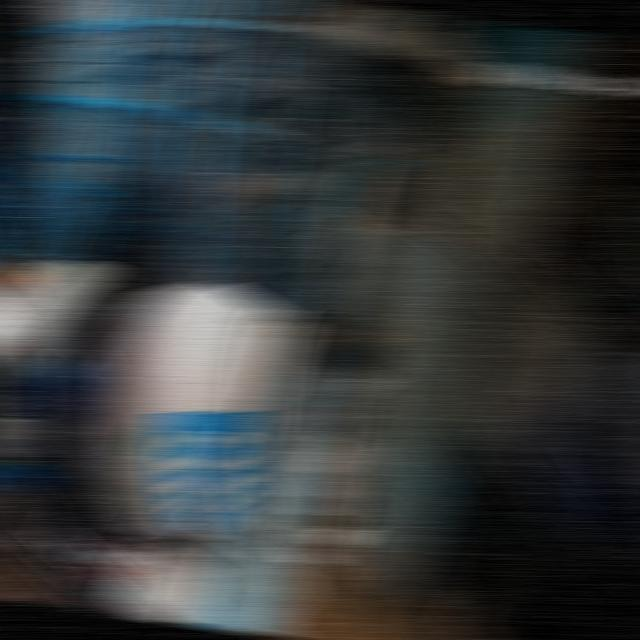cement_mixer_truck: (0, 253, 399, 640)
swing_chute: (278, 118, 432, 346)
